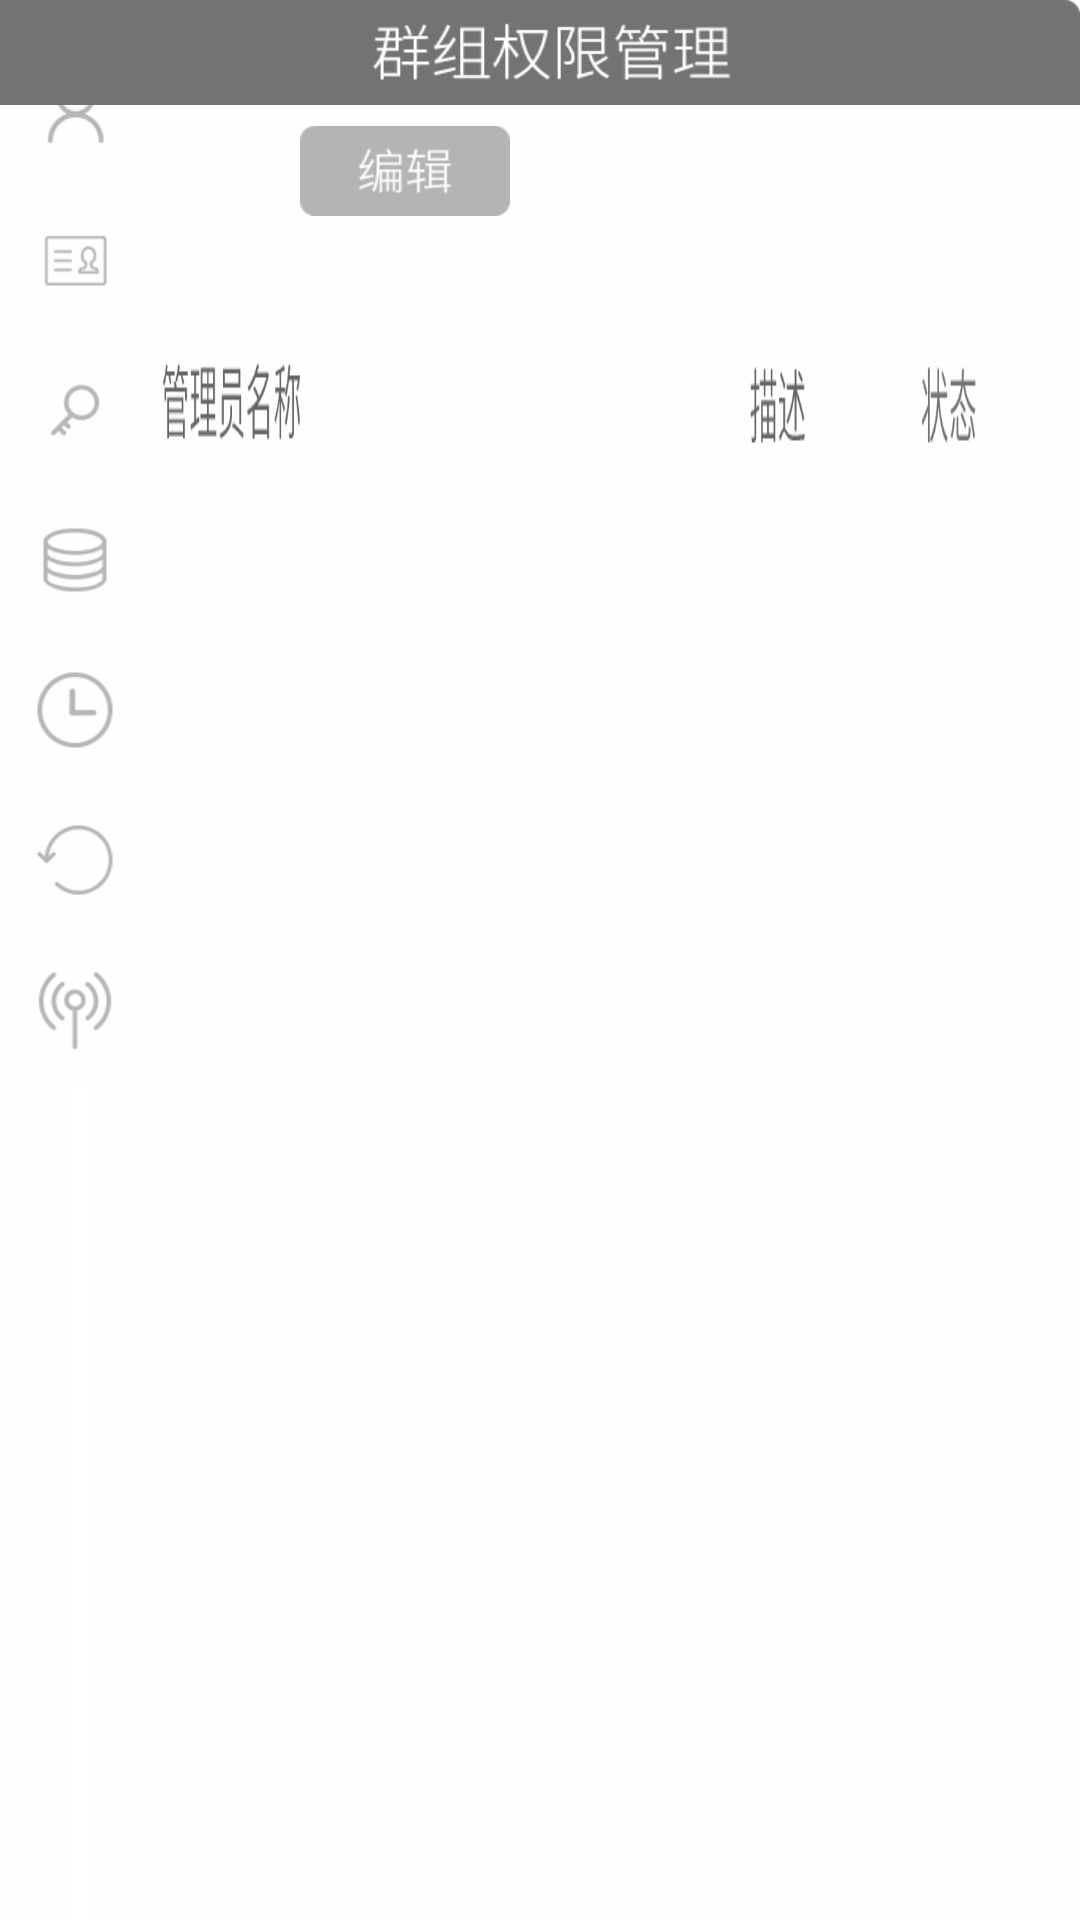

Where icons sit on this 1080px x 1920px app screen, as (x1, y1, x2, y2):
settings tab id: (45, 236, 107, 286)
settings tab permission: (51, 385, 99, 436)
settings tab stock: (43, 528, 107, 592)
settings tab time: (37, 672, 113, 748)
